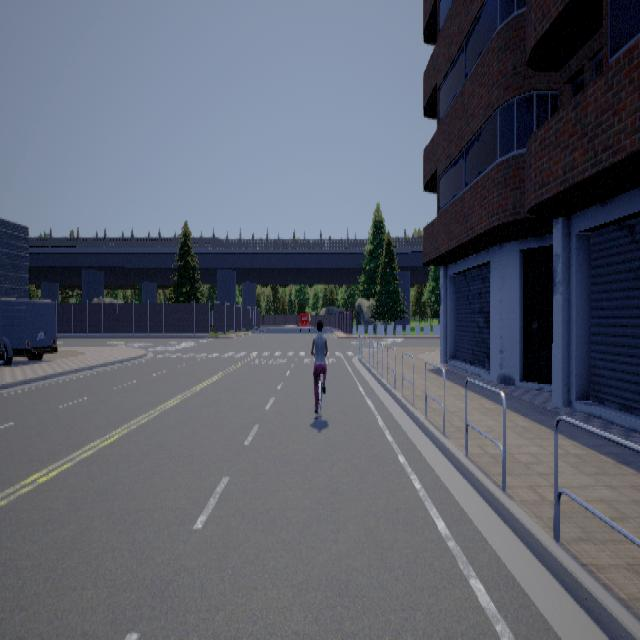bike: (309, 318, 330, 421)
vehicle: (0, 296, 57, 364)
